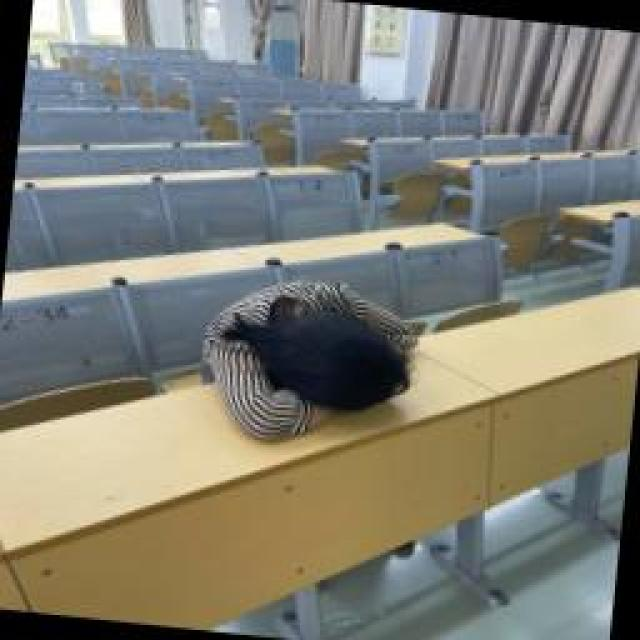sleep: (195, 270, 423, 460)
